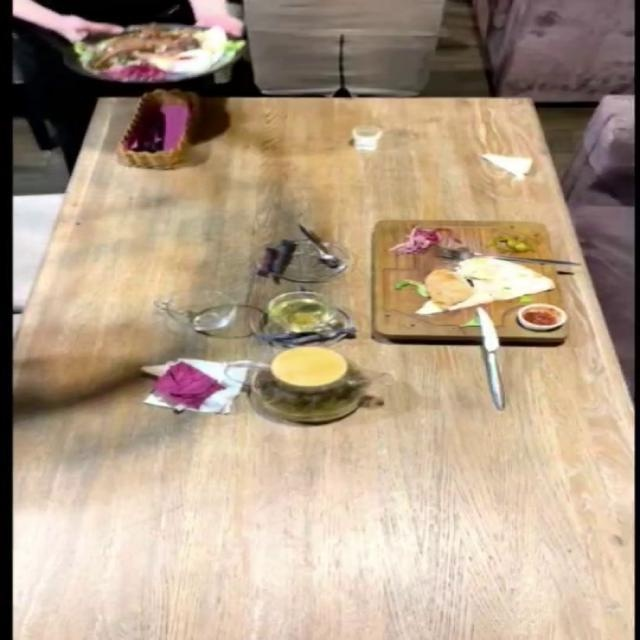meat: (356, 215, 583, 351), (73, 9, 251, 111)
tea: (252, 345, 372, 423)
